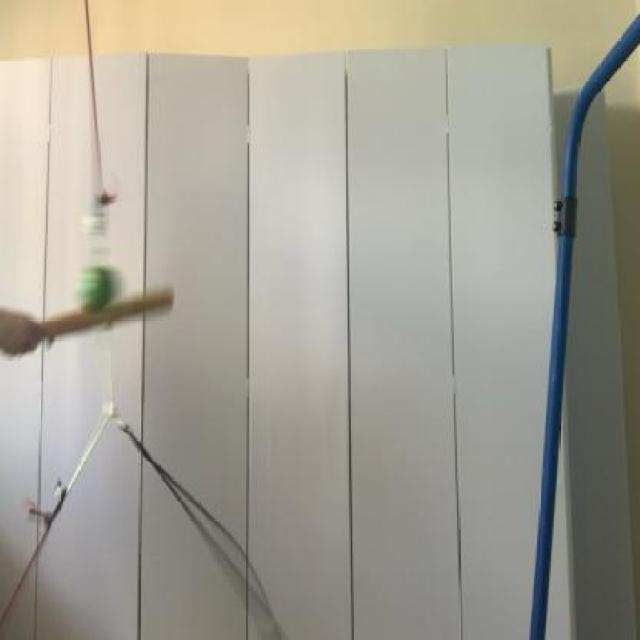baseball: (68, 252, 138, 318)
